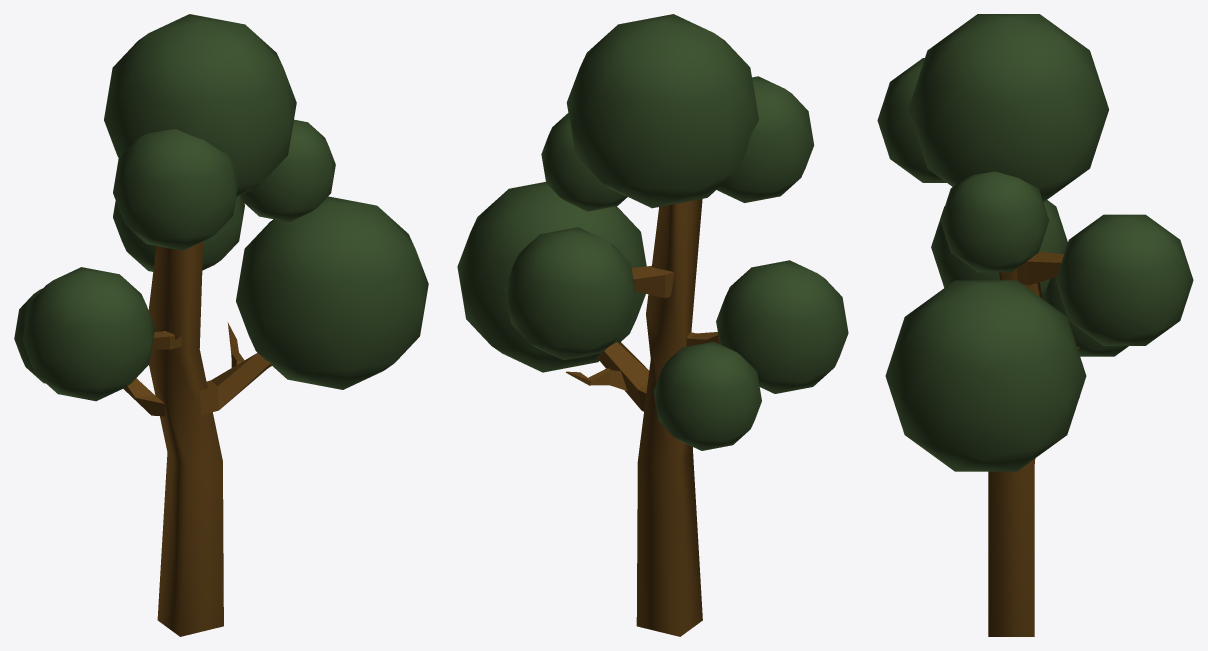
File: Tree2.fbx
The picture shows the model from 3 angles, left to right: view 1: azimuth 30°, elevation 25°; view 2: azimuth 150°, elevation 25°; view 3: azimuth 270°, elevation 25°; orthographic projection. The views are drawn at different scales.
Parts seen in each view (by area): view 1: Tree2; view 2: Tree2; view 3: Tree2.
Boxes of the visible parts, <box> form: Tree2: <box>14,14,428,636</box>; Tree2: <box>457,14,848,636</box>; Tree2: <box>877,14,1193,636</box>.
Size of the model in its own units: 1712 by 2628 by 1230.
